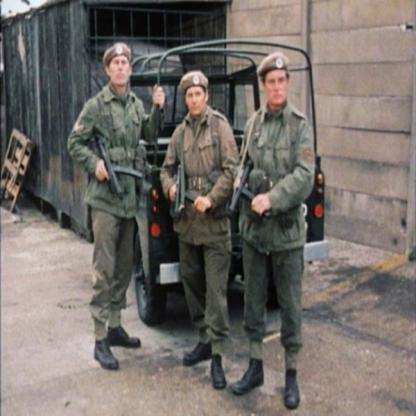Gun: (91, 133, 147, 203), (166, 162, 215, 235), (224, 160, 273, 222)
